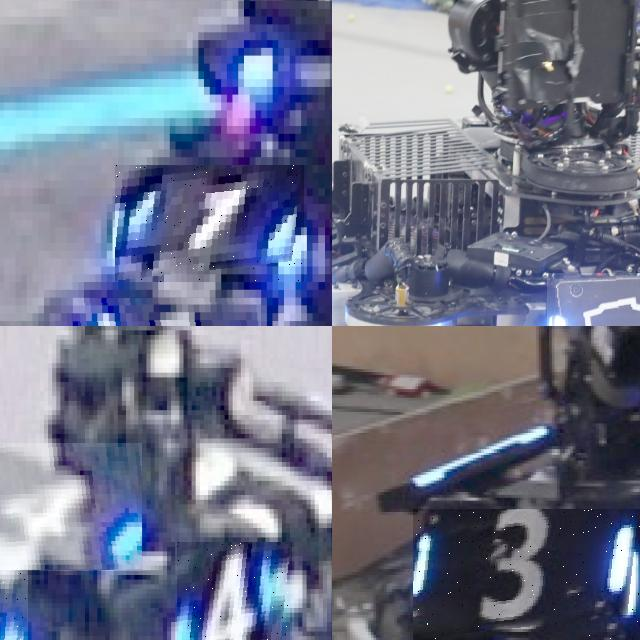B1: (115, 165, 304, 282), (72, 297, 261, 326)
B3: (413, 509, 640, 640)
B4: (0, 443, 142, 570), (177, 542, 292, 640)
Bs: (547, 273, 640, 326)
